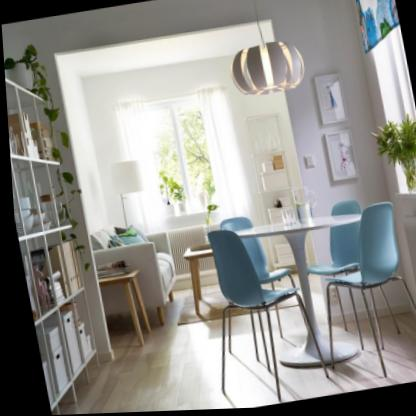Chair: (187, 215, 327, 411), (296, 198, 416, 389)
Sofa: (83, 216, 183, 338)
